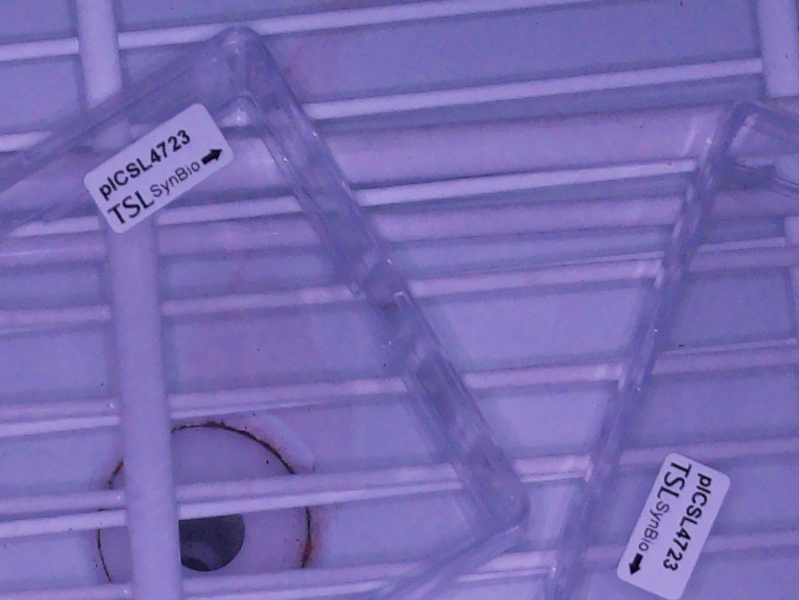plate: (1, 24, 535, 600), (548, 97, 799, 600)
